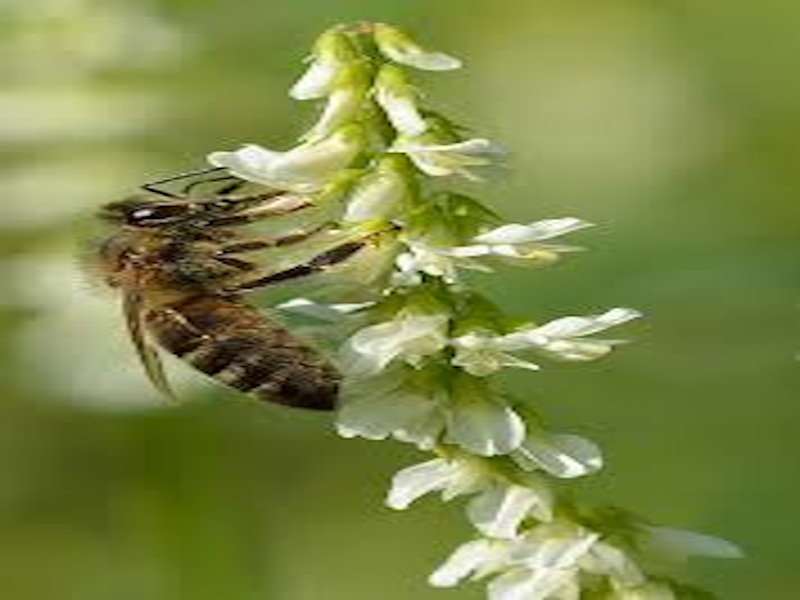abeja: (62, 116, 376, 453)
